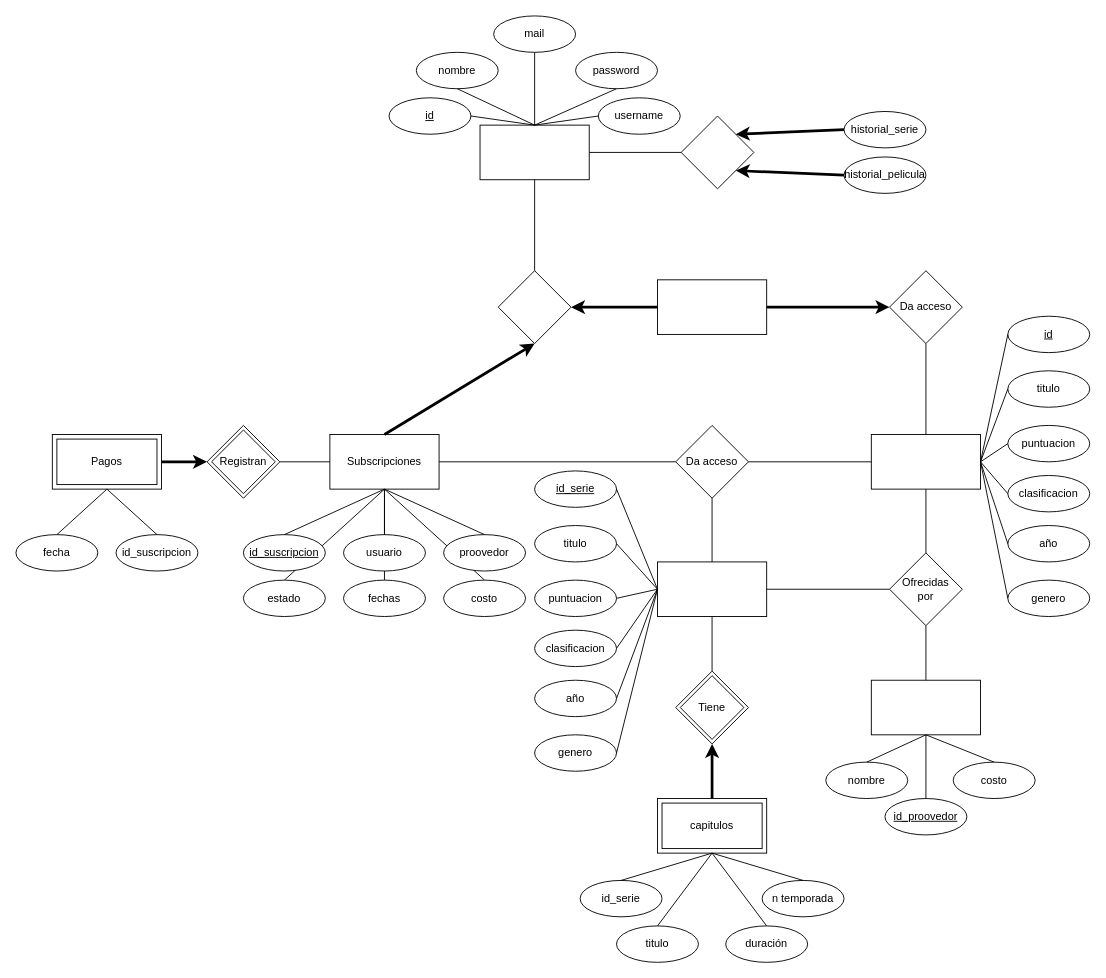
Image size: 1106x978. Some labels were removed from this diagram. Here are the shapes that lost their labels. From the top down, the centre of each, then its label:
point 534,152: Usuarios
point 717,152: Registra
point 534,307: Paga
point 712,306: Arriendos Peliculas
point 925,461: Peliculas
point 712,589: Series
point 925,707: Proovedores
